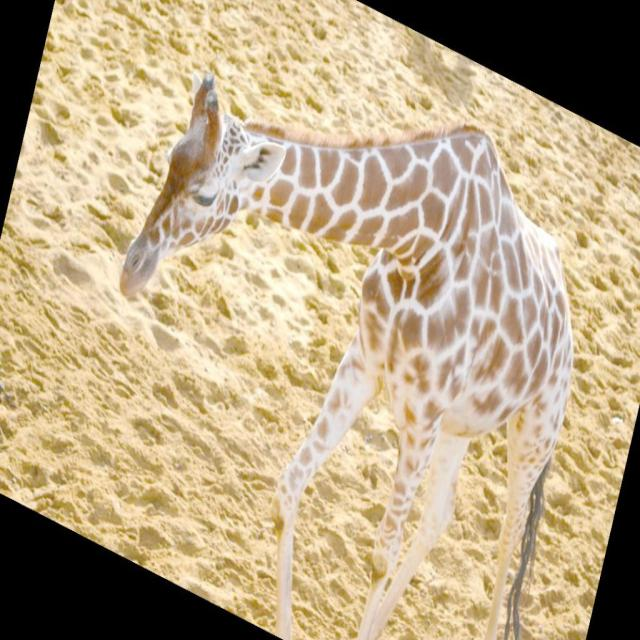Giraffe: (116, 71, 576, 640)
